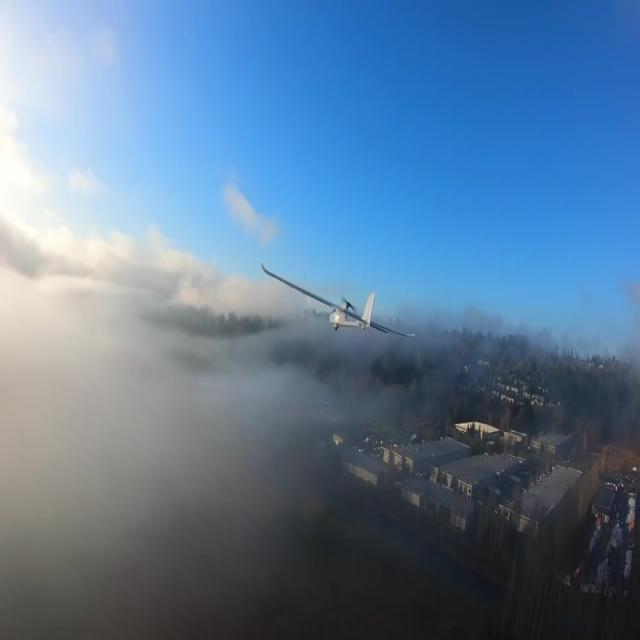iha: (261, 294, 416, 307)
